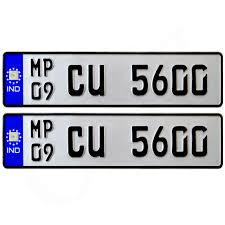inlp: (1, 110, 225, 171), (1, 49, 225, 109)
